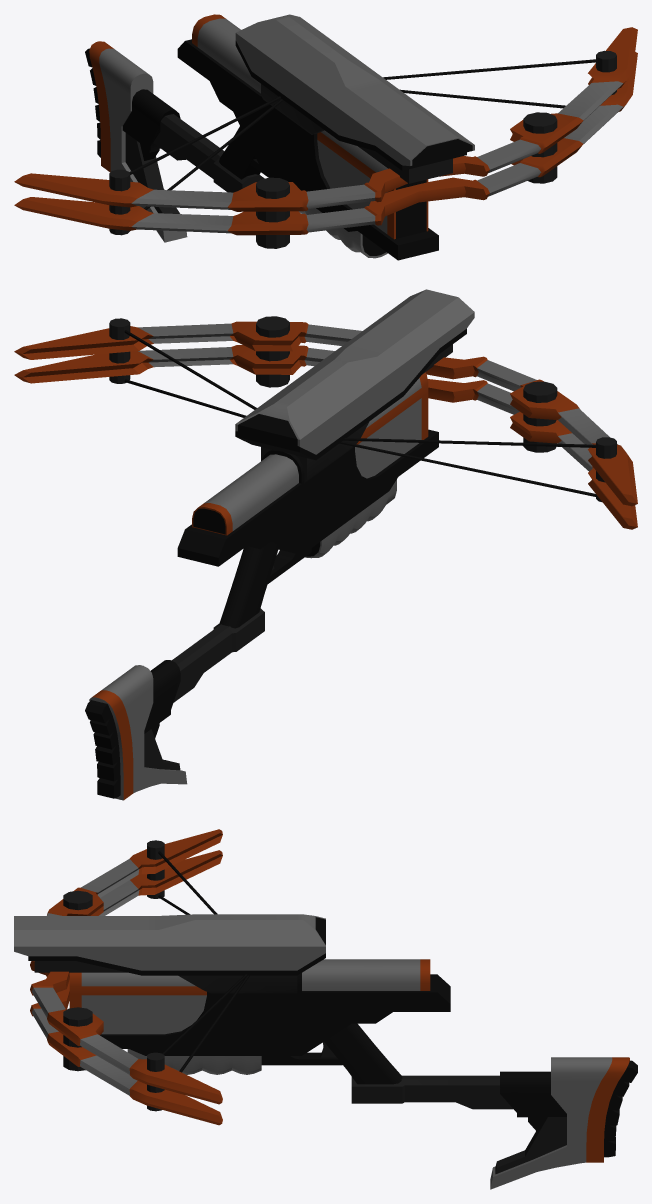
File: Crossbow_1.fbx
3 views of the same model, one above another, from view 1: azimuth 30°, elevation 25°; view 2: azimuth 150°, elevation 25°; view 3: azimuth 270°, elevation 25° (orthographic). The views are drawn at different scales.
Visible parts, largest first — view 1: Crossbow_1; view 2: Crossbow_1; view 3: Crossbow_1.
Part boxes in pixels (x1=…): Crossbow_1: x1=14, y1=14, x2=637, y2=260; Crossbow_1: x1=14, y1=289, x2=637, y2=800; Crossbow_1: x1=14, y1=829, x2=637, y2=1189.
Bounding box in the file's own units: 1.92 × 0.8812 × 1.86.
